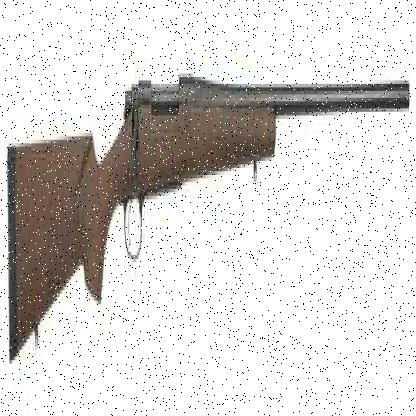rifle: (0, 17, 414, 371)
